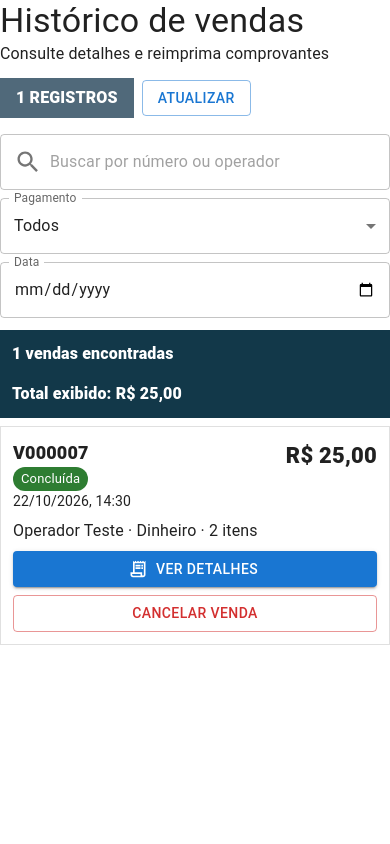
Scenario: SalesHistoryPage › lista uma venda e abre o comprovante para reimpressão
Click the button "Ver detalhes" at (195, 569), box [13,551,377,587]
(page scrolled)
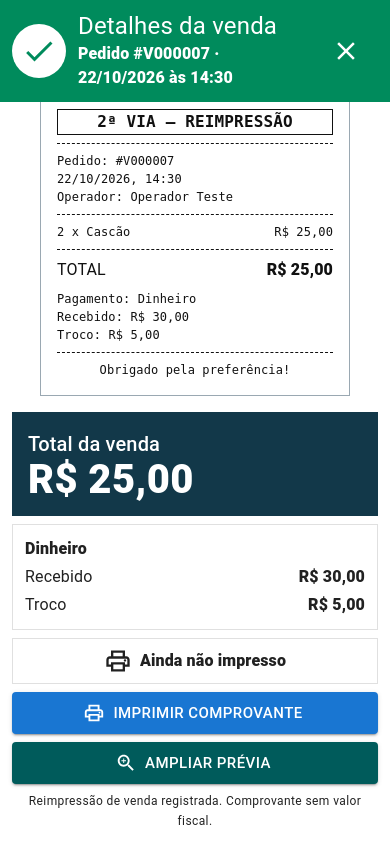
Expected: the heading "Detalhes da venda" is shown, [78,12,302,42]
Expected: the button "Imprimir comprovante" is shown, [12,692,378,734]
Expected: the text "Reimpressão de venda registrada" is shown, [29,794,361,828]
